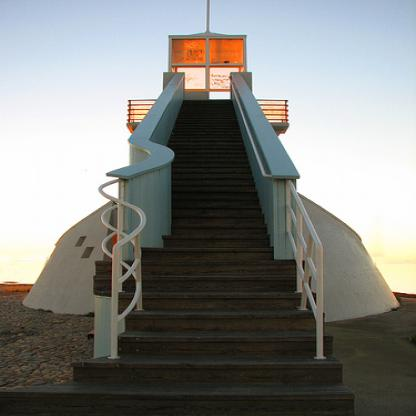stairs: (158, 285, 294, 416)
